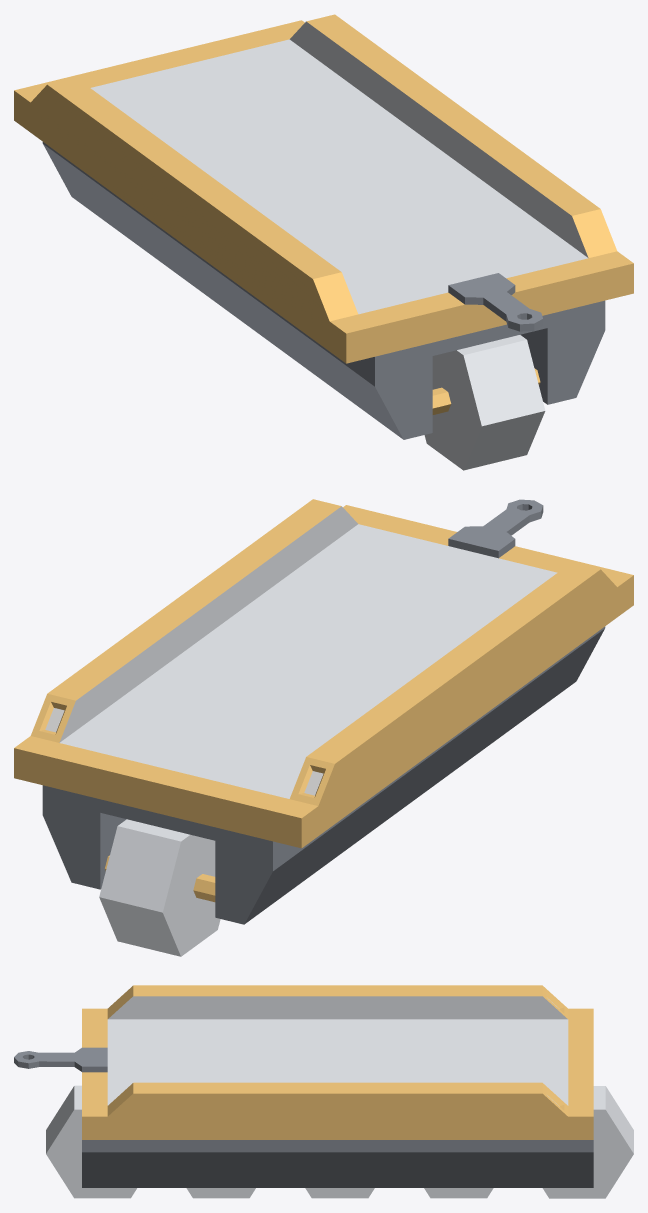
The model's file is Rover_Buggy.fbx.
3 renders of one model, top to bottom at view 1: azimuth 30°, elevation 25°; view 2: azimuth 150°, elevation 25°; view 3: azimuth 270°, elevation 25°, orthographic. The views are drawn at different scales.
Visible parts, largest first — view 1: monorail_trainFlat.001, Wheel 1; view 2: monorail_trainFlat.001, Wheel 5; view 3: monorail_trainFlat.001, Wheel 5, Wheel 1, Wheel 2, Wheel 4, Wheel 3.
Part boxes in pixels (x1,y1,x2,y2): monorail_trainFlat.001: (14, 14, 633, 439); Wheel 1: (424, 335, 545, 470); monorail_trainFlat.001: (14, 499, 633, 924); Wheel 5: (99, 819, 220, 956); monorail_trainFlat.001: (14, 985, 593, 1187); Wheel 5: (542, 1086, 633, 1198); Wheel 1: (46, 1085, 136, 1198); Wheel 2: (186, 1188, 255, 1198); Wheel 4: (424, 1188, 493, 1198); Wheel 3: (305, 1188, 374, 1198).
Bounding box in the file's own units: 22.62 × 14.33 × 54.81.
